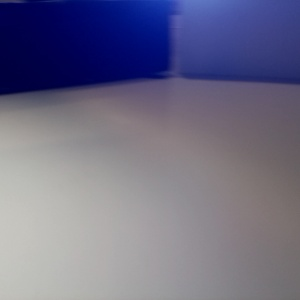alive_ball: (105, 48, 255, 200)
dead_ball: (55, 28, 105, 80)
